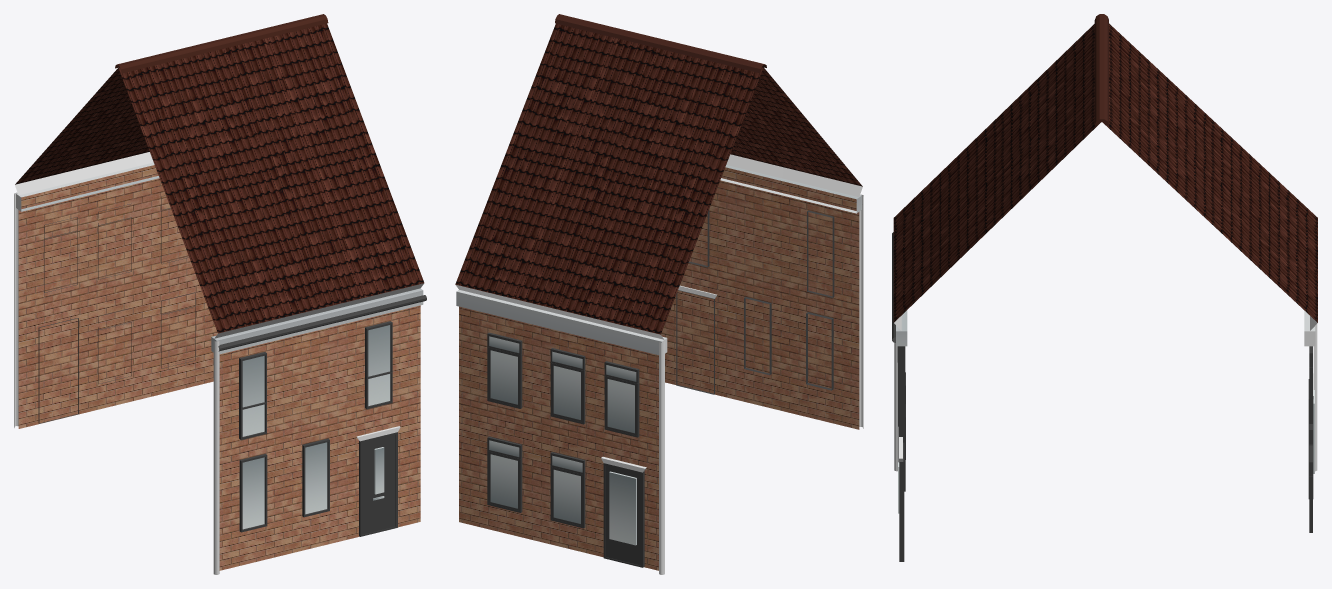
The model's file is It_Tek_16.fbx.
3 views of the same model, side by side, from view 1: azimuth 30°, elevation 25°; view 2: azimuth 150°, elevation 25°; view 3: azimuth 270°, elevation 25° (orthographic). The views are drawn at different scales.
Visible parts, largest first — view 1: It_Tek_16; view 2: It_Tek_16; view 3: It_Tek_16.
Part boxes in pixels (bbox=[...]): It_Tek_16: bbox=[14, 14, 426, 574]; It_Tek_16: bbox=[455, 14, 863, 574]; It_Tek_16: bbox=[892, 14, 1317, 561].
Size of the model in its own units: 558 by 1107 by 937.
